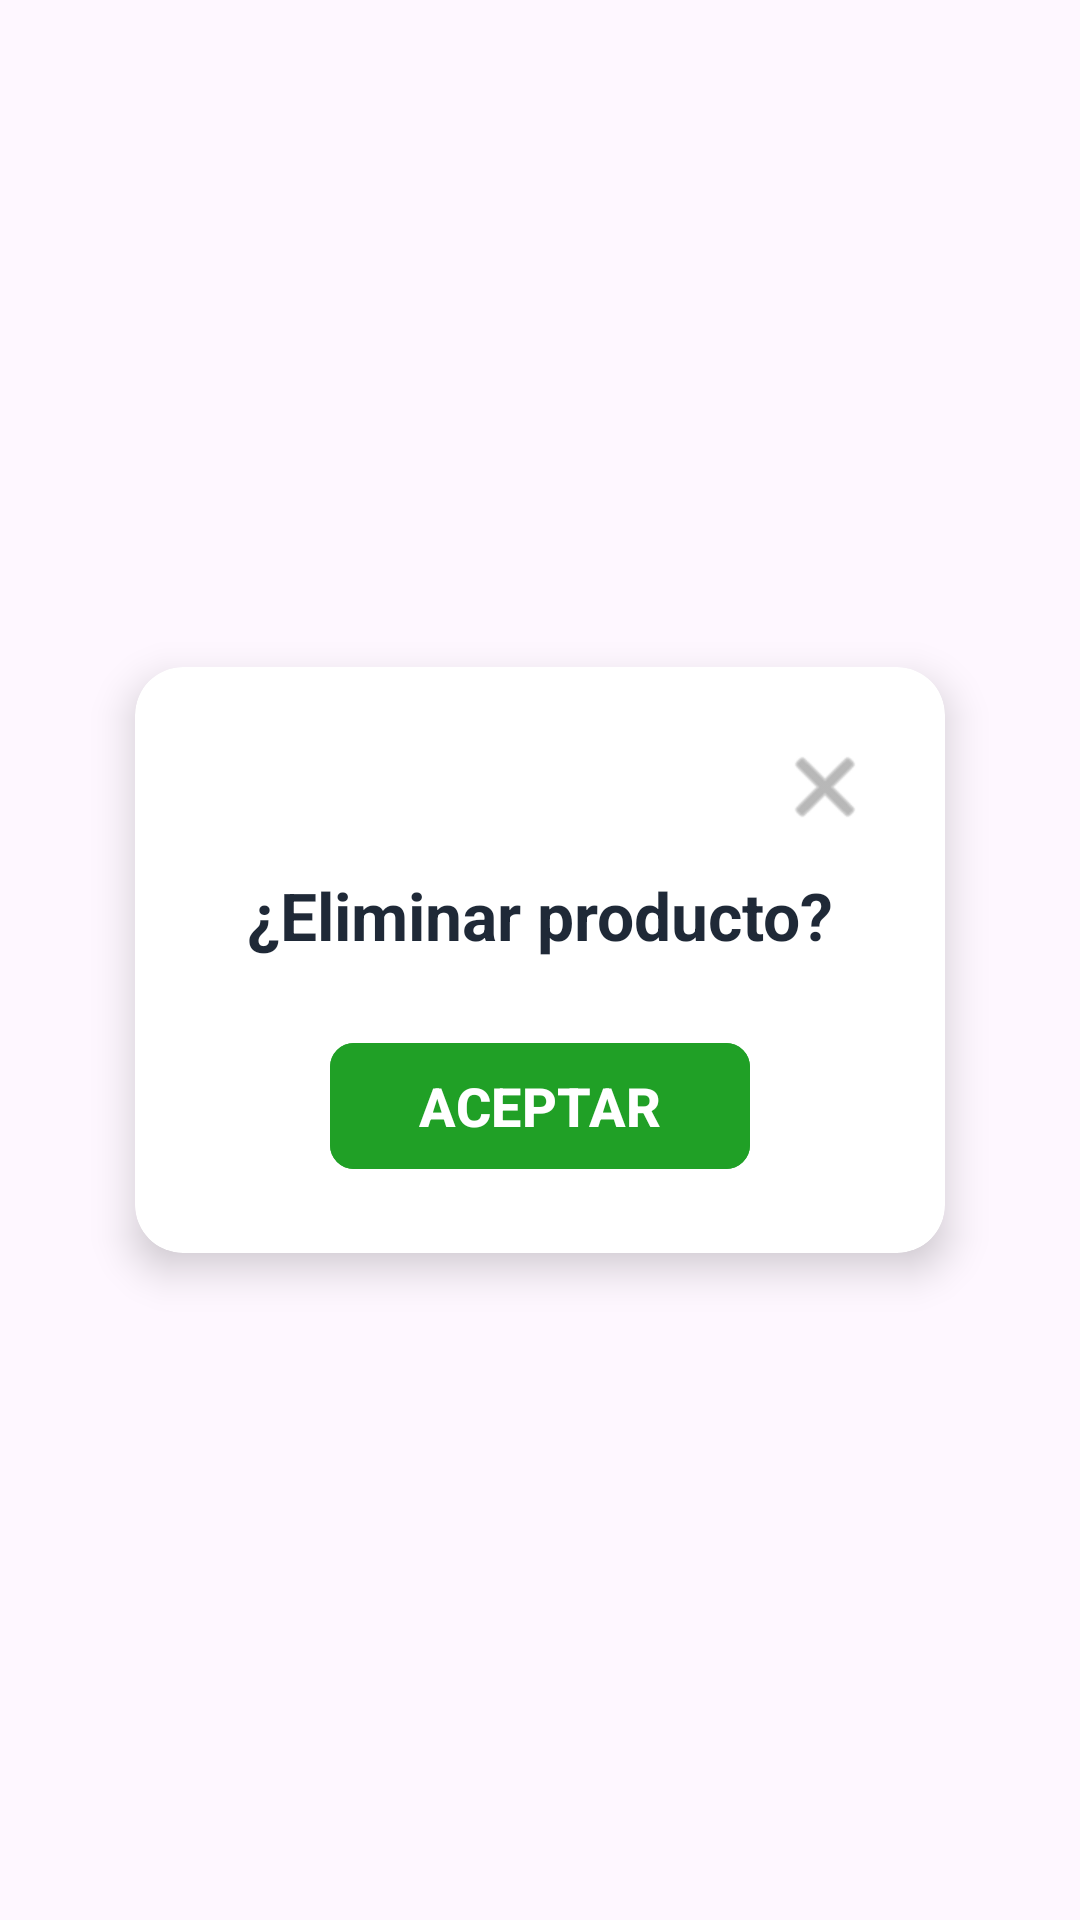

Where to tap for icons on this 1080px x 1920px app screen, as point (x, y):
close clear cancel: point (825, 787)
